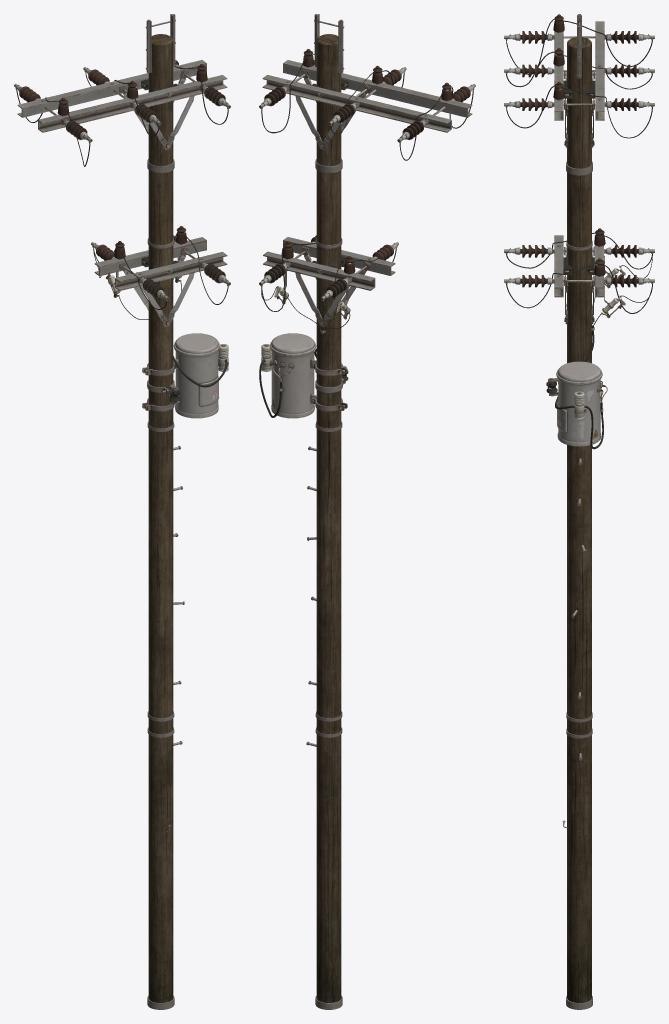
Rendered from pole-transformer.glb.
The picture shows the model from 3 angles, left to right: view 1: azimuth 30°, elevation 25°; view 2: azimuth 150°, elevation 25°; view 3: azimuth 270°, elevation 25°; orthographic projection.
Parts seen in each view (by area): view 1: preset_03_pole, preset_03_connection_large_offset_01, preset_03_connection_small_01_02, preset_03_transformer_01, preset_03_cap; view 2: preset_03_pole, preset_03_connection_large_offset_01, preset_03_connection_small_01_02, preset_03_transformer_01, preset_03_fuse_01, preset_03_cap; view 3: preset_03_pole, preset_03_connection_large_offset_01, preset_03_connection_small_01_02, preset_03_transformer_01, preset_03_fuse_01.
Part boxes in pixels (<box>): preset_03_pole: <box>148,34,173,1002</box>; preset_03_connection_large_offset_01: <box>14,60,230,166</box>; preset_03_connection_small_01_02: <box>91,226,230,326</box>; preset_03_transformer_01: <box>142,333,228,418</box>; preset_03_cap: <box>145,14,175,72</box>; preset_03_pole: <box>316,34,341,1002</box>; preset_03_connection_large_offset_01: <box>259,49,475,160</box>; preset_03_connection_small_01_02: <box>259,235,398,326</box>; preset_03_transformer_01: <box>259,328,347,418</box>; preset_03_fuse_01: <box>261,270,350,330</box>; preset_03_cap: <box>314,14,344,72</box>; preset_03_pole: <box>567,37,591,1002</box>; preset_03_connection_large_offset_01: <box>504,14,654,147</box>; preset_03_connection_small_01_02: <box>504,228,654,324</box>; preset_03_transformer_01: <box>555,325,607,449</box>; preset_03_fuse_01: <box>591,254,652,328</box>.
Bounding box in the file's own units: 1.29 × 6.13 × 0.8522.
Materials: 2 (2 with a texture image).
